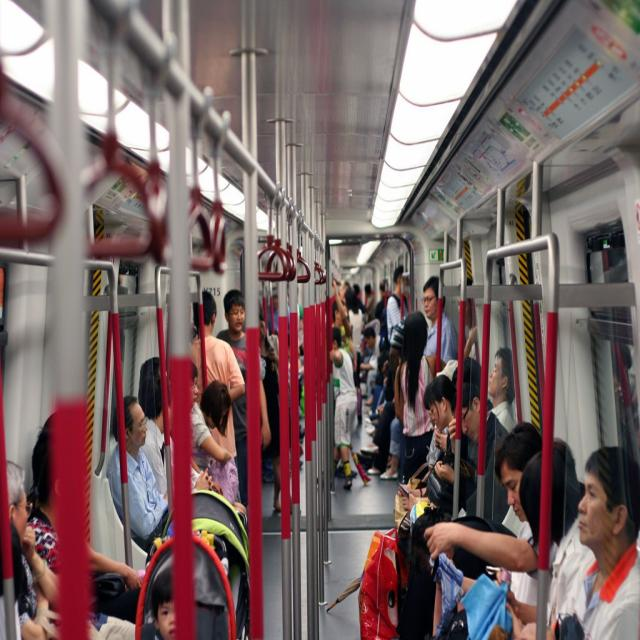body: (25, 410, 143, 636), (422, 420, 556, 616), (22, 426, 137, 640), (480, 437, 598, 640), (509, 440, 599, 640), (394, 373, 457, 603), (188, 288, 248, 505), (215, 288, 271, 508), (138, 355, 216, 503), (136, 370, 215, 511), (392, 308, 450, 488), (106, 393, 170, 554), (447, 384, 512, 530), (188, 378, 248, 514), (360, 322, 399, 482), (0, 459, 33, 640), (326, 326, 360, 492), (256, 309, 282, 514), (281, 330, 308, 481), (148, 557, 195, 640), (420, 274, 460, 370), (486, 344, 520, 434), (330, 272, 386, 321), (614, 339, 640, 439), (268, 280, 304, 331), (386, 264, 409, 341), (453, 352, 481, 383), (464, 322, 482, 354), (341, 321, 354, 352), (190, 360, 198, 403)
